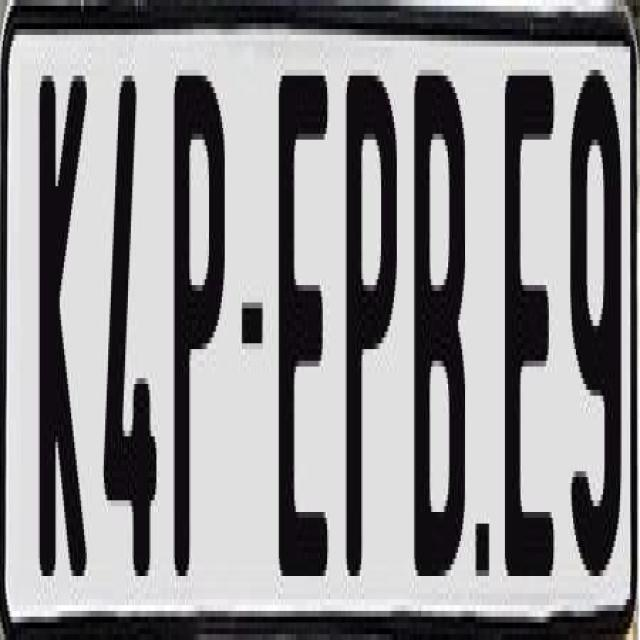4: (101, 76, 153, 582)
9: (571, 53, 618, 594)
B: (414, 70, 474, 600)
E: (279, 64, 335, 564), (504, 70, 556, 588)
K: (39, 58, 93, 588)
P: (341, 76, 397, 588), (171, 64, 225, 576)
